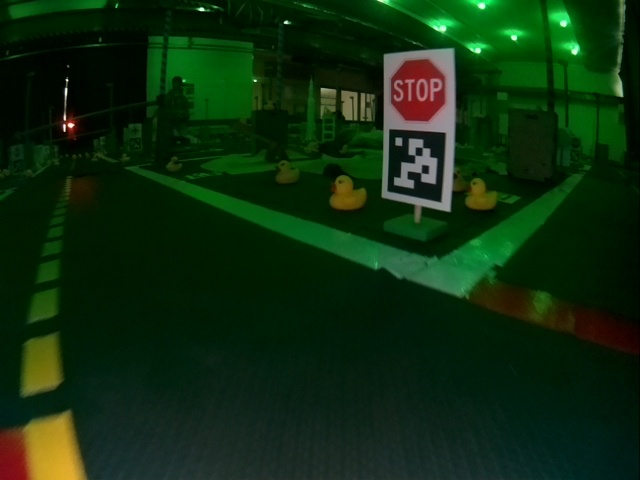Duckie: (329, 176, 366, 210), (467, 180, 493, 210), (276, 160, 296, 183), (453, 169, 468, 193), (167, 156, 183, 172)
QR code: (387, 130, 446, 202)
Stop sign: (388, 56, 450, 122)
